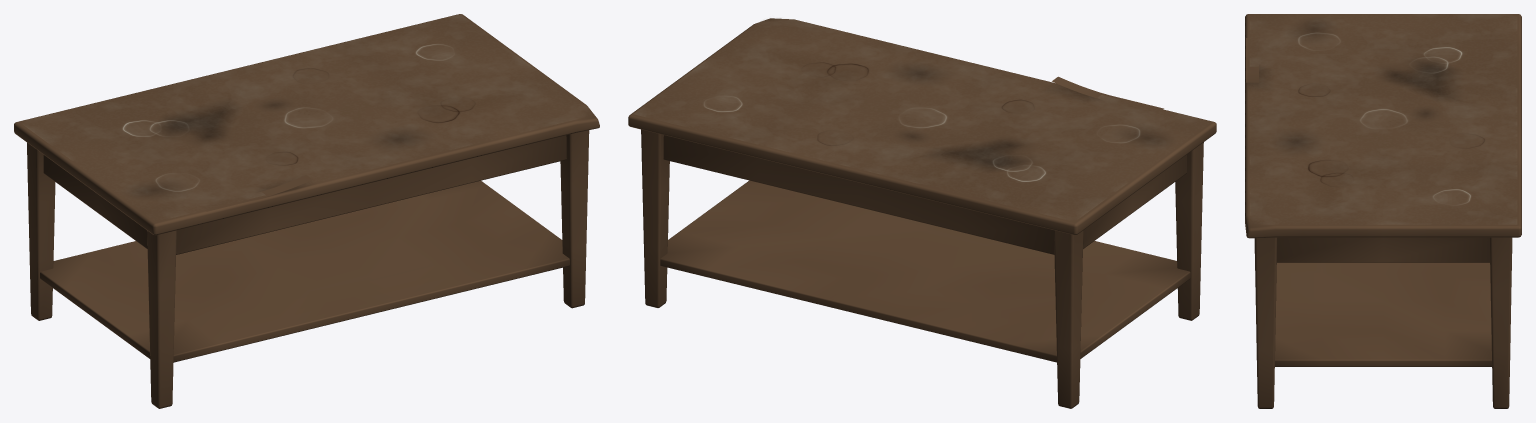
File: coffee_table.glb
3 views of the same model, side by side, from view 1: azimuth 30°, elevation 25°; view 2: azimuth 150°, elevation 25°; view 3: azimuth 270°, elevation 25° (orthographic). The views are drawn at different scales.
Parts seen in each view (by area): view 1: coffee_table; view 2: coffee_table; view 3: coffee_table.
Boxes of the visible parts, <box> form: coffee_table: <box>14,14,599,408</box>; coffee_table: <box>628,18,1216,408</box>; coffee_table: <box>1245,14,1521,408</box>.
Size of the model in its own units: 1.1 by 0.4648 by 0.6001.
2 materials, 1 textured.
